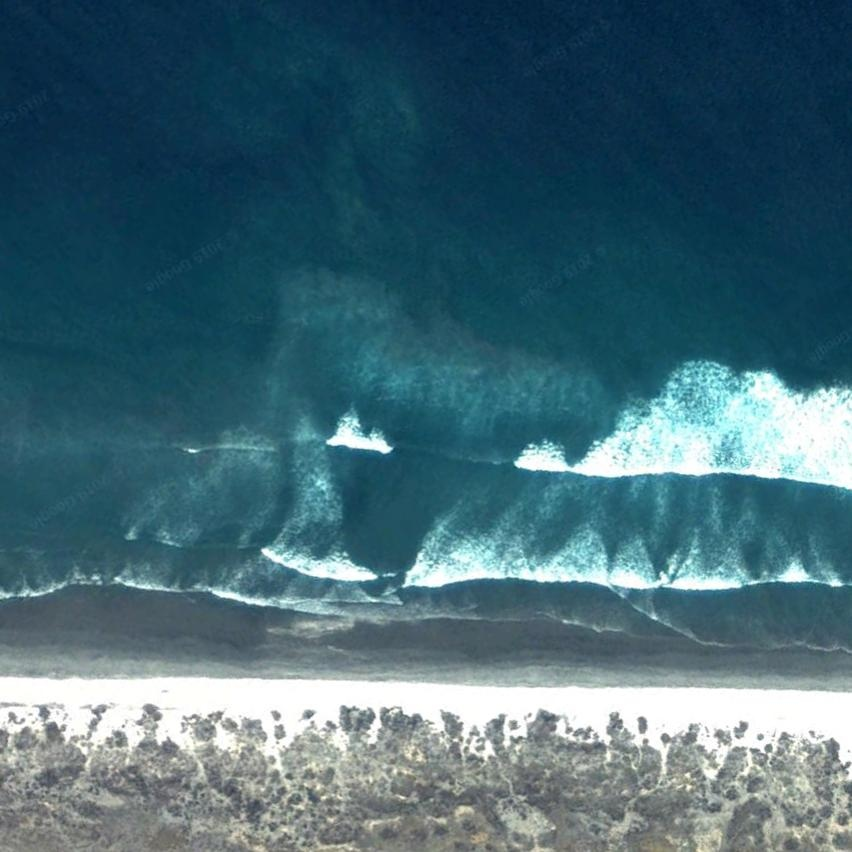rip_current: (284, 308, 495, 593)
